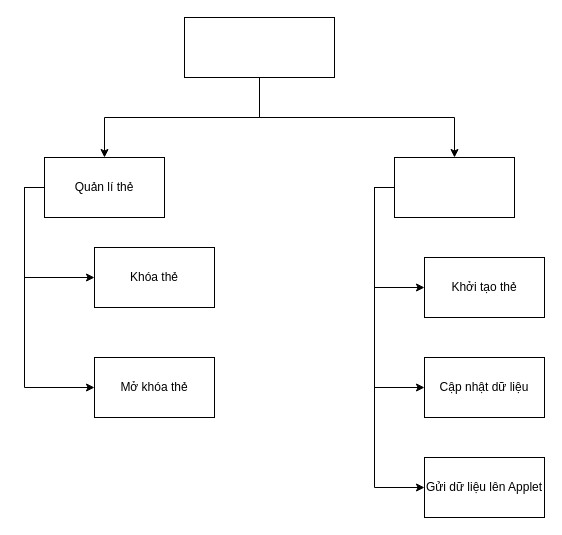
This 562x535 diagram has some shape labels left out. Each missing label, with the box of its shape:
Quản lý dữ liệu thẻ: (394, 156, 514, 218)
Thẻ thanh toán siêu thị: (184, 16, 334, 78)
